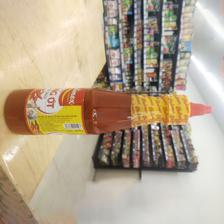Tuong: (3, 85, 216, 137)
